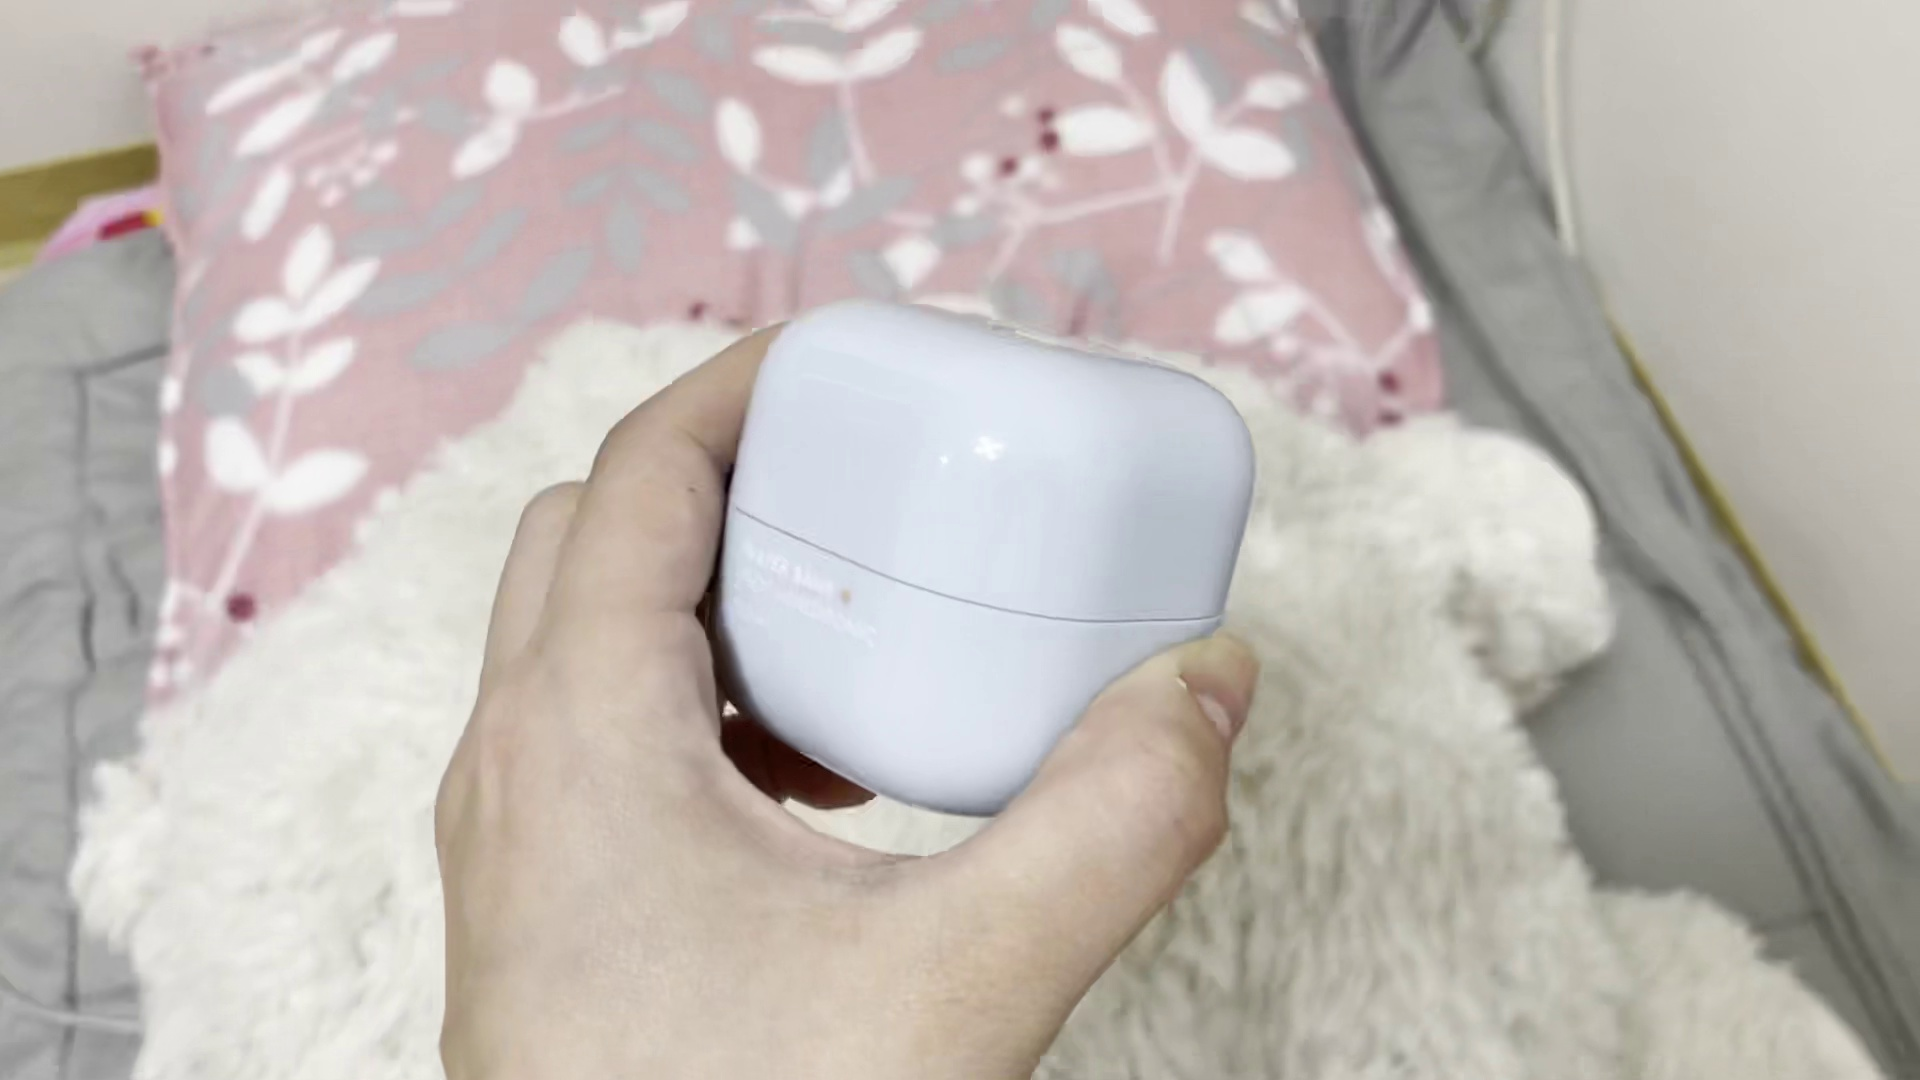cream: (716, 291, 1247, 815)
